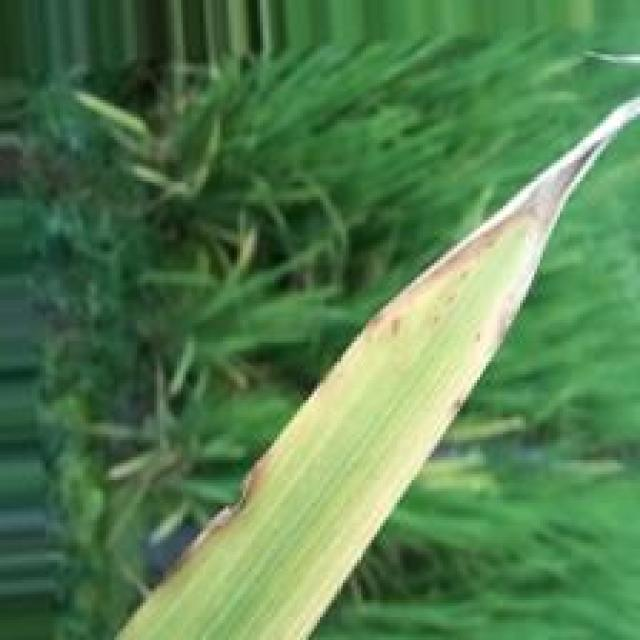Leaf_Scald: (109, 95, 640, 640)
